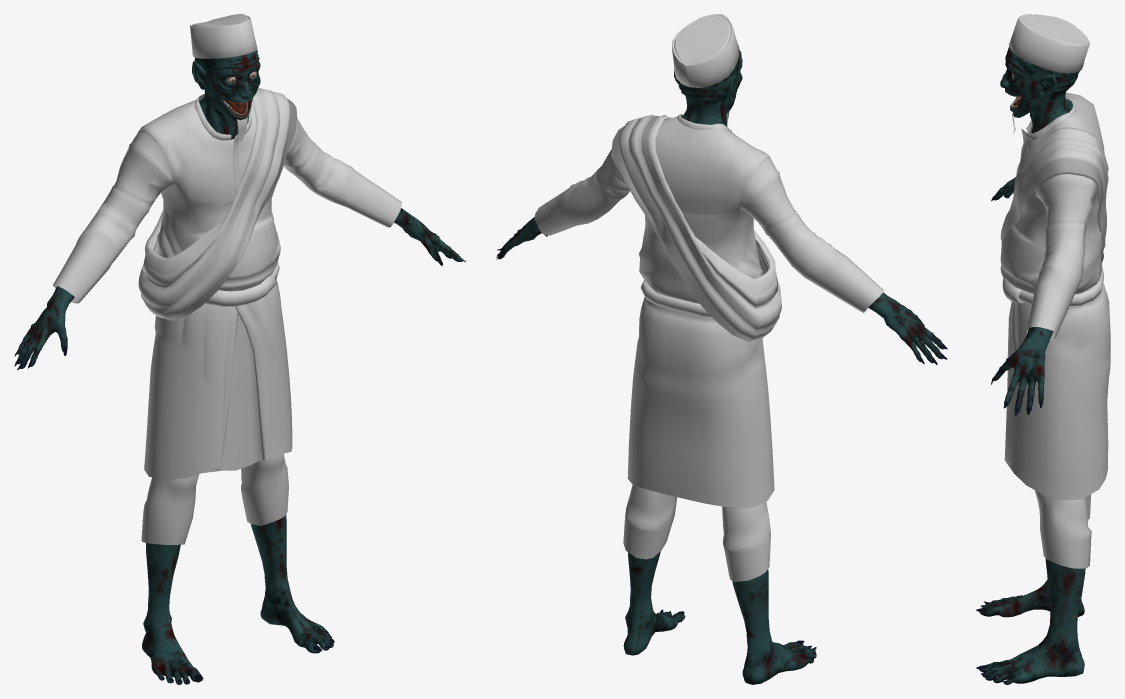
File: TokCangkul_FBX.FBX
3 renders of one model, left to right at view 1: azimuth 30°, elevation 25°; view 2: azimuth 150°, elevation 25°; view 3: azimuth 270°, elevation 25°, orthographic.
Parts seen in each view (by area): view 1: TokCangkul; view 2: TokCangkul; view 3: TokCangkul.
Boxes of the visible parts, x1,y1,x2,y2 form: TokCangkul: (14,14,466,684); TokCangkul: (496,14,947,684); TokCangkul: (976,14,1110,684).
Bounding box in the file's own units: 167 × 224 × 43.62.
